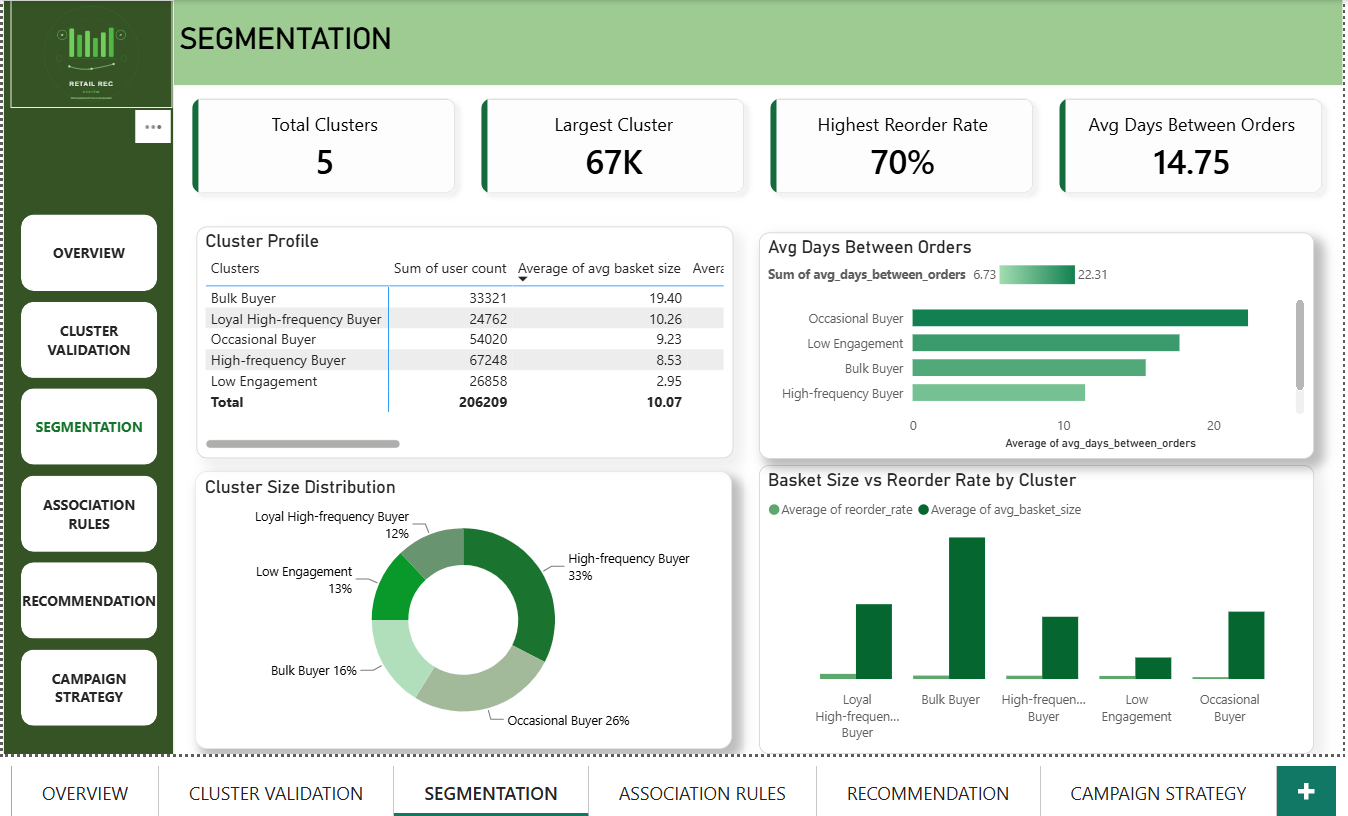

The page's visual inventory and layout, read from the dashboard file:
{"tool":"powerbi","page":{"name":"SEGMENTATION","canvas":[1280,720],"ordinal":2},"visuals":[{"type":"shape","box":[0,0,163.3,830],"z":0,"group":"g1"},{"type":"shape","box":[150.4,0,1128.7,81.6],"z":0},{"type":"image","box":[7.5,0,155,102.5],"z":1000,"group":"g1"},{"type":"textbox","box":[162.7,13.6,639.1,76.4],"z":1000},{"type":"group","id":"g1","title":"Group 1","box":[0,0,163.3,830],"z":2000},{"type":"clusteredColumnChart","title":"Basket Size vs Reorder Rate by Cluster","fields":{"Category":["dim_cluster.cluster_label"],"Y":["Avg(dim_cluster.reorder_rate)","Avg(dim_cluster.avg_basket_size)"]},"box":[721.4,444.3,530,275.7],"z":4000},{"type":"pageNavigator","box":[17.1,204.3,130,491.4],"z":5000},{"type":"cardVisual","fields":{"Data":["measures (2).Total Clusters","measures (2).Largest Cluster","measures (2).Highest Reorder Rate","measures (2).Avg Days Between Orders"]},"box":[162.9,81.4,1117.1,115.7],"z":6000},{"type":"clusteredBarChart","title":"Avg Days Between Orders","fields":{"Category":["dim_cluster.cluster_label"],"Y":["Avg(dim_cluster.avg_days_between_orders)"]},"box":[721.4,221.4,530,215.7],"z":8000},{"type":"donutChart","title":"Cluster Size Distribution","fields":{"Category":["dim_cluster.cluster_label"],"Y":["Sum(dim_cluster.user_count)"]},"box":[183.8,450,512.5,265],"z":10000},{"type":"pivotTable","title":"Cluster Profile","fields":{"Rows":["dim_cluster.cluster_label"],"Values":["Sum(dim_cluster.user_count)","Avg(dim_cluster.avg_basket_size)","Avg(dim_cluster.reorder_rate)","Avg(dim_cluster.avg_days_between_orders)","Avg(dim_cluster.pct_weekend_orders)"]},"box":[184.3,215.7,512.9,221.4],"z":11000}]}

Visuals, with their boxes on the page's 1280x720 design canvas (x1, y1, x2, y2). These are canvas units, not pixel positions in the 1348x816 screenshot, which may show the page scaled, cropped or inside an application window:
shape: region(0, 0, 163, 830)
shape: region(150, 0, 1279, 82)
image: region(8, 0, 162, 102)
textbox: region(163, 14, 802, 90)
"Group 1" group: region(0, 0, 163, 830)
"Basket Size vs Reorder Rate by Cluster" clusteredColumnChart: region(721, 444, 1251, 720)
pageNavigator: region(17, 204, 147, 696)
cardVisual - measures (2).Total Clusters x measures (2).Largest Cluster: region(163, 81, 1280, 197)
"Avg Days Between Orders" clusteredBarChart: region(721, 221, 1251, 437)
"Cluster Size Distribution" donutChart: region(184, 450, 696, 715)
"Cluster Profile" pivotTable: region(184, 216, 697, 437)
